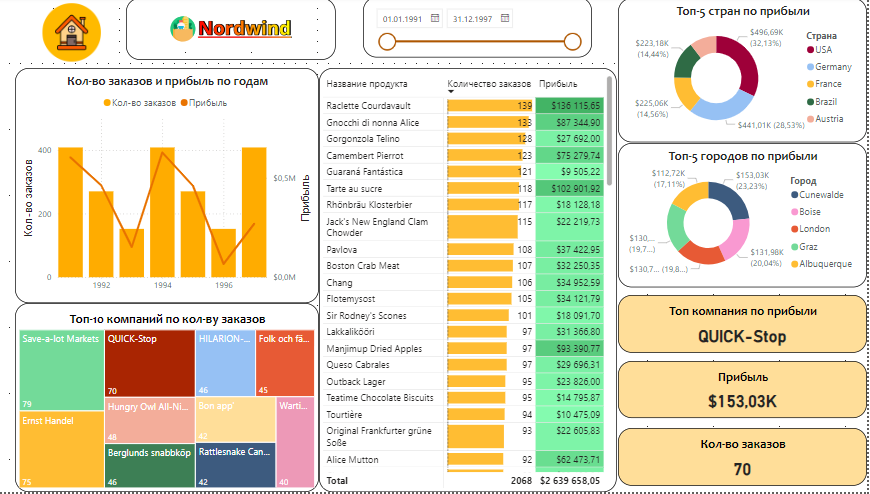

This screenshot's page, from the dashboard's own definition file:
{"tool":"powerbi","page":{"name":"Клиенты","canvas":[1280,720],"ordinal":3},"visuals":[{"type":"image","box":[201.7,1.7,305,90],"z":0},{"type":"slicer","fields":{"Values":["Calendar.Date"]},"box":[546.7,0,333.3,88.3],"z":1000},{"type":"lineClusteredColumnComboChart","title":"Кол-во заказов и прибыль по годам","fields":{"Category":["Calendar.Year"],"Y":["orders_details_all.Order_Cases_Dist"],"Y2":["orders_details_all.Total_Profit"]},"box":[40,103.3,441.7,341.7],"z":2000},{"type":"treemap","title":"Топ-10 компаний по кол-ву заказов","fields":{"Values":["orders_details_all.Order_Cases_Dist"],"Group":["public customers.company_name"]},"box":[40,445,441.7,275],"z":3000},{"type":"pivotTable","fields":{"Rows":["public products.product_name"],"Values":["orders_details_all.Order_Cases_Dist","orders_details_all.Total_Profit"]},"box":[483.3,103.3,433.3,616.7],"z":4000},{"type":"donutChart","title":"Топ-5 городов по прибыли","fields":{"Category":["public customers.city"],"Y":["orders_details_all.Total_Profit"]},"box":[918.3,211.7,361.7,210],"z":5000},{"type":"donutChart","title":"Топ-5 стран по прибыли","fields":{"Category":["public customers.country"],"Y":["orders_details_all.Total_Profit"]},"box":[918.3,1.7,361.7,210],"z":6000},{"type":"card","title":"Топ компания по прибыли","fields":{"Values":["Min(public customers.company_name)"]},"box":[918.3,433.3,361.7,84],"z":7000},{"type":"card","title":"Прибыль","fields":{"Values":["orders_details_all.Total_Profit"]},"box":[918.3,530,361.7,83.3],"z":8000},{"type":"card","title":"Кол-во заказов","fields":{"Values":["orders_details_all.Order_Cases_Dist"]},"box":[918.3,626.7,361.7,84],"z":9000},{"type":"image","box":[75.6,0,94.5,103.3],"z":10000}]}

Visuals, with their boxes in screenshot pixels (x1, y1, x2, y2), scaled from the page's 1280x720 canvas onto the 870x494 screenshot:
image: locate(137, 1, 344, 63)
slicer - Calendar.Date: locate(372, 0, 598, 61)
"Кол-во заказов и прибыль по годам" lineClusteredColumnComboChart: locate(27, 71, 327, 305)
"Топ-10 компаний по кол-ву заказов" treemap: locate(27, 305, 327, 493)
pivotTable - public products.product_name x orders_details_all.Order_Cases_Dist: locate(328, 71, 623, 493)
"Топ-5 городов по прибыли" donutChart: locate(624, 145, 869, 289)
"Топ-5 стран по прибыли" donutChart: locate(624, 1, 869, 145)
"Топ компания по прибыли" card: locate(624, 297, 869, 355)
"Прибыль" card: locate(624, 364, 869, 421)
"Кол-во заказов" card: locate(624, 430, 869, 488)
image: locate(51, 0, 116, 71)
